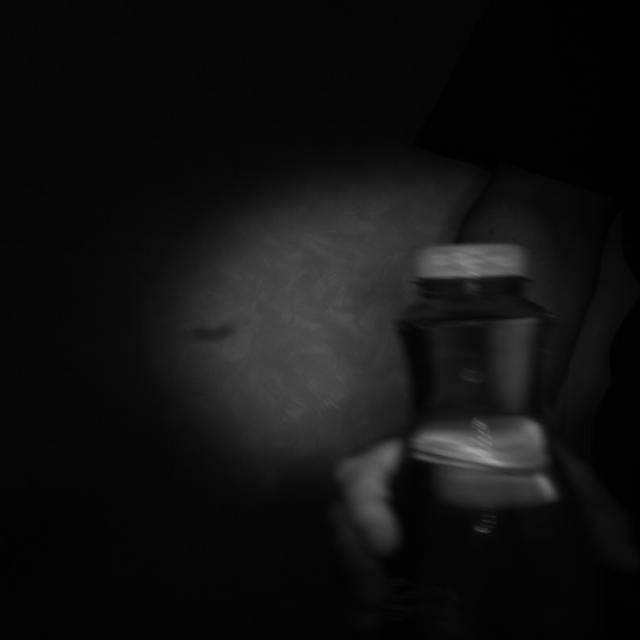Good: (410, 244, 527, 278)
